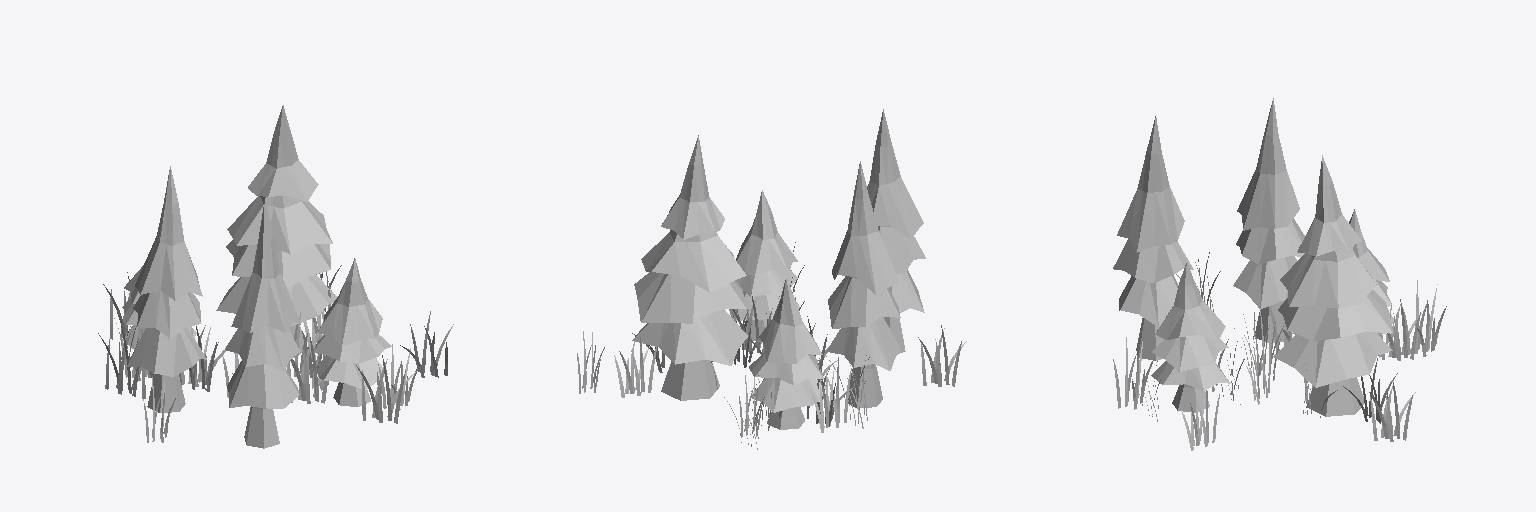
The model's file is SM_Env_Trees_03.obj.
3 views of the same model, side by side, from view 1: azimuth 30°, elevation 25°; view 2: azimuth 150°, elevation 25°; view 3: azimuth 270°, elevation 25° (orthographic).
Visible parts, largest first — view 1: SM_Env_Trees_03_Cylinder.012; view 2: SM_Env_Trees_03_Cylinder.012; view 3: SM_Env_Trees_03_Cylinder.012.
Part boxes in pixels (bbox=[...]): SM_Env_Trees_03_Cylinder.012: bbox=[98, 105, 453, 448]; SM_Env_Trees_03_Cylinder.012: bbox=[577, 109, 966, 449]; SM_Env_Trees_03_Cylinder.012: bbox=[1113, 98, 1446, 450].
Size of the model in its own units: 3.83 by 2.97 by 3.62.